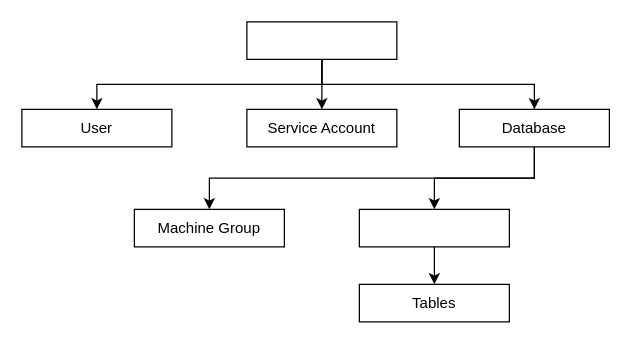
Some shapes in this 631 by 344 pixel diagram are drawn without their labels. The box of each missing label's shape, as (x1, y1, x2, y2) in pixels:
Organization: (246, 21, 397, 59)
Schema: (358, 208, 509, 247)
